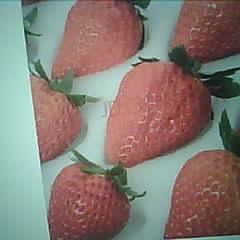straw-ripe: (105, 62, 212, 161), (53, 1, 143, 80), (163, 153, 240, 237), (46, 164, 130, 240)
